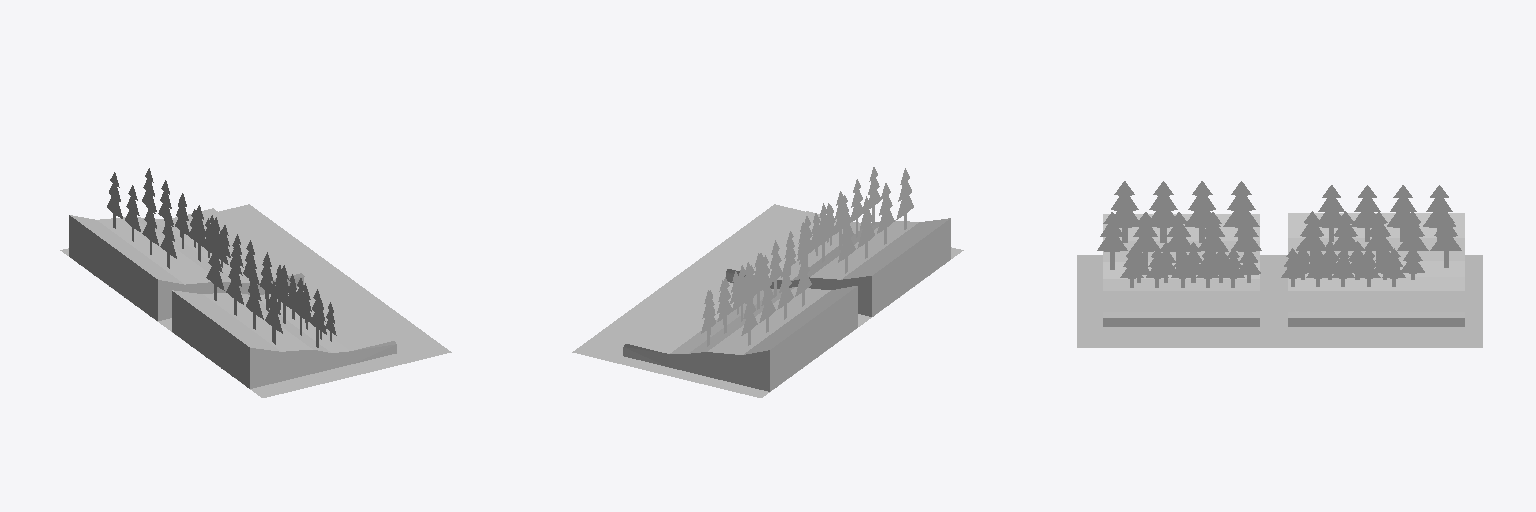
Rendered from World.obj.
3 views of the same model, side by side, from view 1: azimuth 30°, elevation 25°; view 2: azimuth 150°, elevation 25°; view 3: azimuth 270°, elevation 25° (orthographic).
Visible parts, largest first — view 1: Plane; view 2: Plane; view 3: Plane.
Boxes of the visible parts, x1=… form: Plane: x1=60, y1=168, x2=451, y2=397; Plane: x1=572, y1=167, x2=963, y2=397; Plane: x1=1077, y1=181, x2=1482, y2=347.
Size of the model in its own units: 38.68 by 17.85 by 71.73.